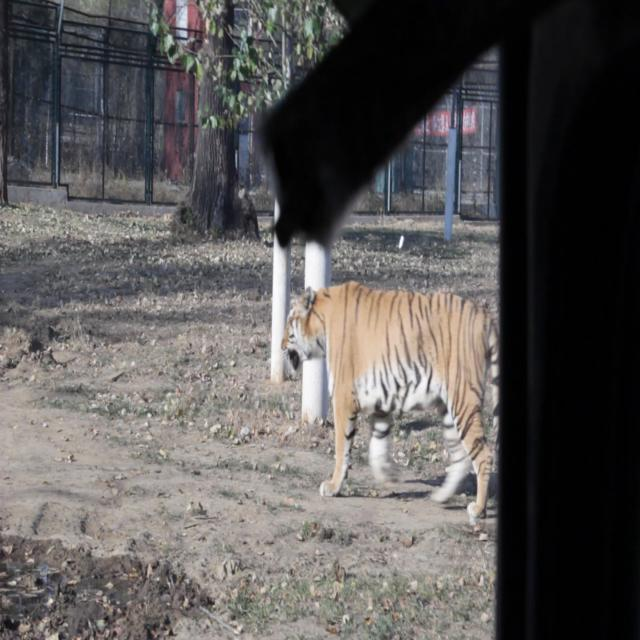Tiger: (270, 257, 502, 541)
